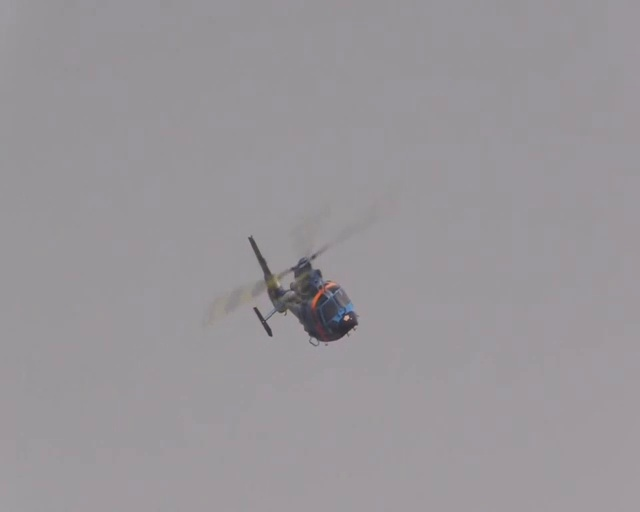HELICOPTER: (205, 206, 379, 346)
